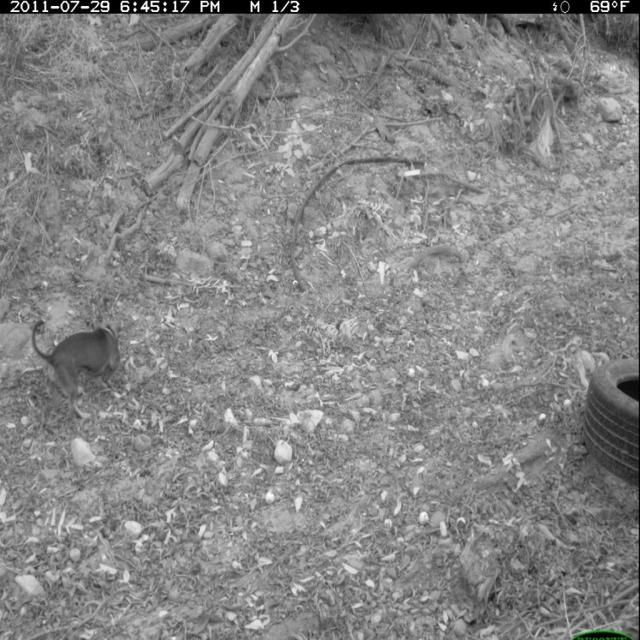dog: (20, 282, 127, 432)
